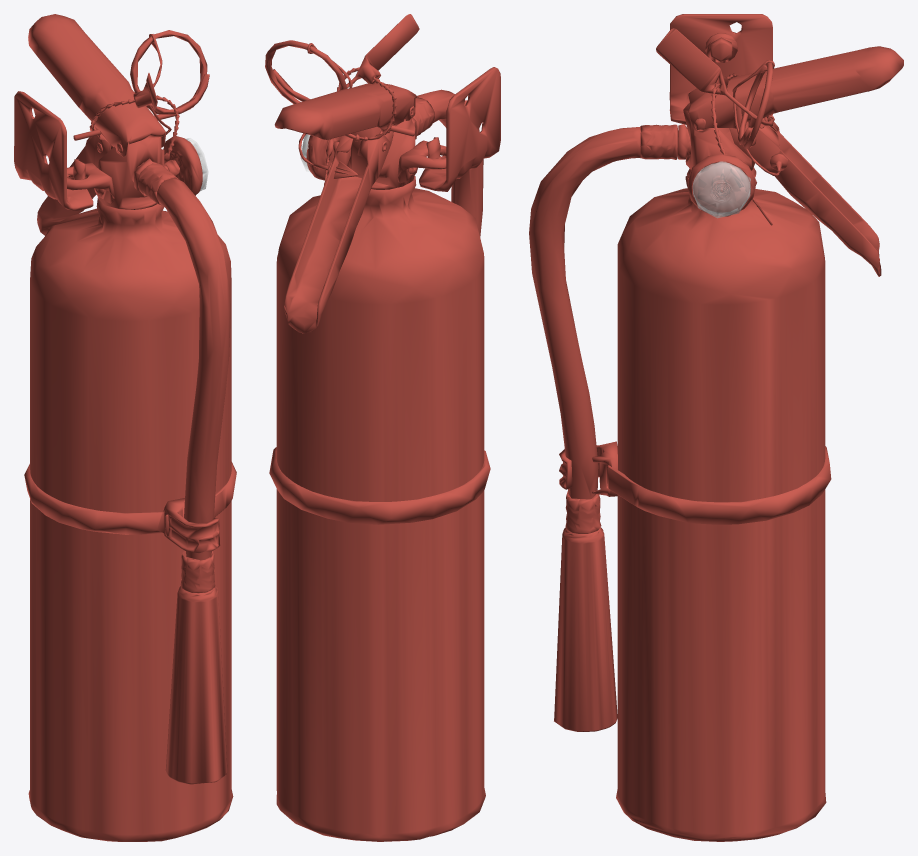
File: extinguisher.glb
The picture shows the model from 3 angles, left to right: view 1: azimuth 30°, elevation 25°; view 2: azimuth 150°, elevation 25°; view 3: azimuth 270°, elevation 25°; orthographic projection. The views are drawn at different scales.
Visible parts, largest first — view 1: geometry_0; view 2: geometry_0; view 3: geometry_0, geometry_1.
Part boxes in pixels (x1,y1,x2,y2): geometry_0: (14,14,236,841); geometry_0: (265,14,500,841); geometry_0: (529,14,903,841); geometry_1: (692,161,750,218).
Size of the model in its own units: 0.1102 by 0.4174 by 0.1848.
